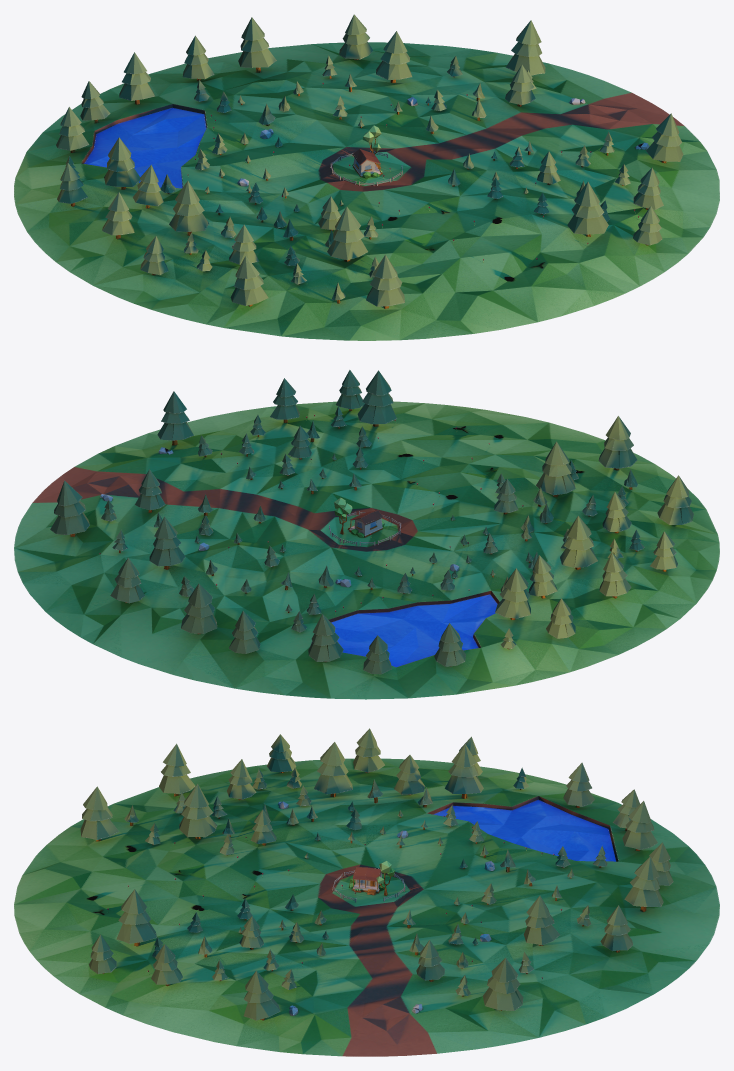
Rendered from level.glb.
3 views of the same model, one above another, from view 1: azimuth 30°, elevation 25°; view 2: azimuth 150°, elevation 25°; view 3: azimuth 270°, elevation 25° (orthographic).
Visible parts, largest first — view 1: Floor_26, Object_58, big.tree.030_24, big.tree.022_21, big.tree.031_25, big.tree.001_1, big.tree.009_9, big.tree.021_20, big.tree.015_15, big.tree.020_19, big.tree.007_7, big.tree.011_11 (+13 smaller); view 2: Floor_26, Object_58, big.tree.009_9, big.tree.030_24, big.tree.022_21, big.tree.031_25, big.tree.001_1, big.tree.021_20, big.tree.015_15, big.tree.020_19, big.tree.011_11, big.tree.007_7 (+14 smaller); view 3: Floor_26, Object_58, big.tree.009_9, big.tree.030_24, big.tree.022_21, big.tree.001_1, big.tree.031_25, big.tree.021_20, big.tree.015_15, big.tree.007_7, big.tree.020_19, big.tree.011_11 (+13 smaller).
Boxes of the visible parts, x1,y1,x2,y2 form: Floor_26: (14, 42, 719, 340); Object_58: (232, 97, 649, 249); big.tree.030_24: (567, 182, 608, 236); big.tree.022_21: (327, 206, 367, 261); big.tree.031_25: (366, 254, 404, 308); big.tree.001_1: (169, 180, 209, 235); big.tree.009_9: (505, 20, 545, 75); big.tree.021_20: (238, 17, 276, 72); big.tree.015_15: (104, 137, 140, 189); big.tree.020_19: (230, 256, 268, 306); big.tree.007_7: (646, 113, 683, 163); big.tree.011_11: (376, 31, 412, 83); Floor_26: (14, 401, 719, 699); Object_58: (100, 447, 459, 587); big.tree.009_9: (50, 480, 89, 536); big.tree.030_24: (357, 370, 396, 426); big.tree.022_21: (536, 441, 575, 497); big.tree.031_25: (598, 416, 637, 470); big.tree.001_1: (560, 515, 597, 569); big.tree.021_20: (181, 583, 217, 634); big.tree.015_15: (495, 568, 530, 619); big.tree.020_19: (657, 475, 693, 524); big.tree.011_11: (149, 516, 185, 569); big.tree.007_7: (157, 391, 193, 445); Floor_26: (14, 758, 719, 1056); Object_58: (277, 801, 494, 1015); big.tree.009_9: (483, 957, 523, 1010); big.tree.030_24: (116, 889, 156, 946); big.tree.022_21: (179, 783, 217, 839); big.tree.001_1: (314, 742, 352, 797); big.tree.031_25: (80, 786, 118, 841); big.tree.021_20: (624, 856, 663, 911); big.tree.015_15: (444, 744, 483, 798); big.tree.007_7: (243, 970, 280, 1020); big.tree.020_19: (159, 743, 195, 796); big.tree.011_11: (523, 895, 559, 945).
Bounding box in the file's own units: 153 × 17.39 × 153.
3 materials, 3 textured.
